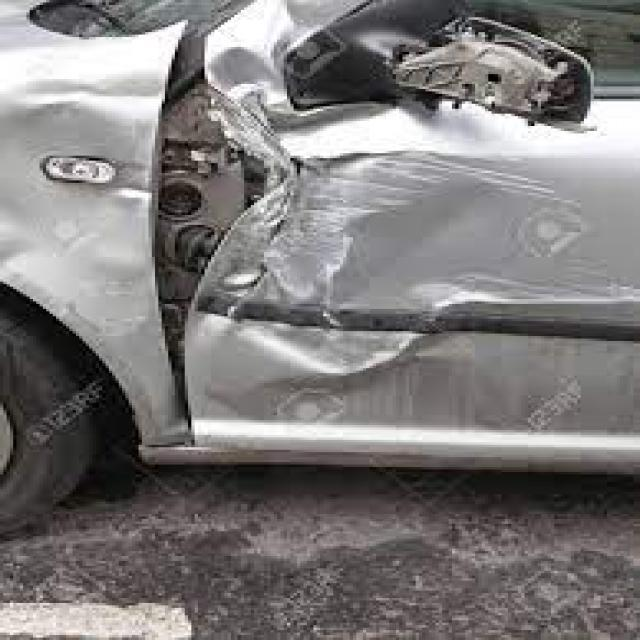damaged-door: (179, 65, 640, 468)
